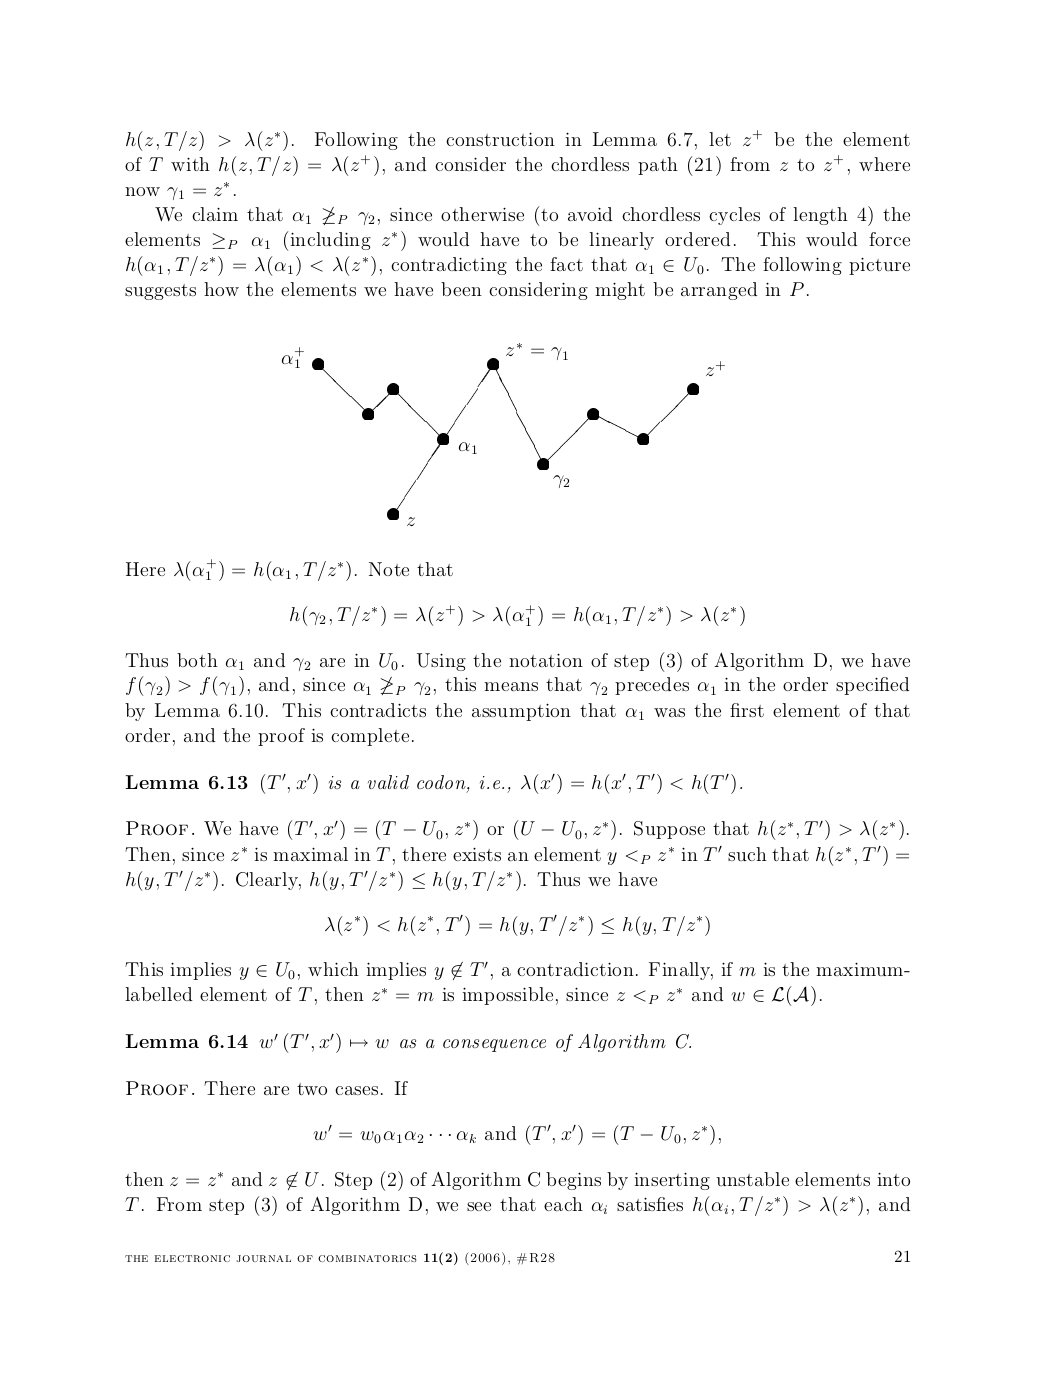figure: (281, 342, 724, 527)
formula: (290, 604, 744, 626), (325, 913, 709, 936), (313, 1123, 720, 1145)
